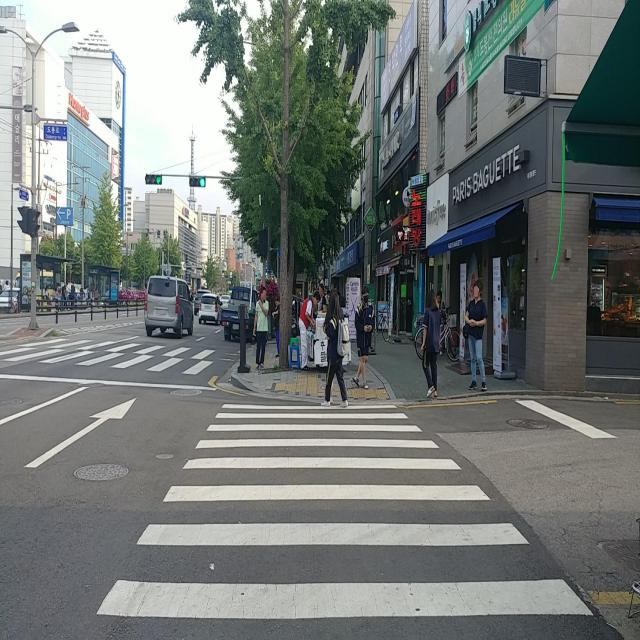횡단보도: (95, 402, 595, 622), (2, 345, 238, 376)
